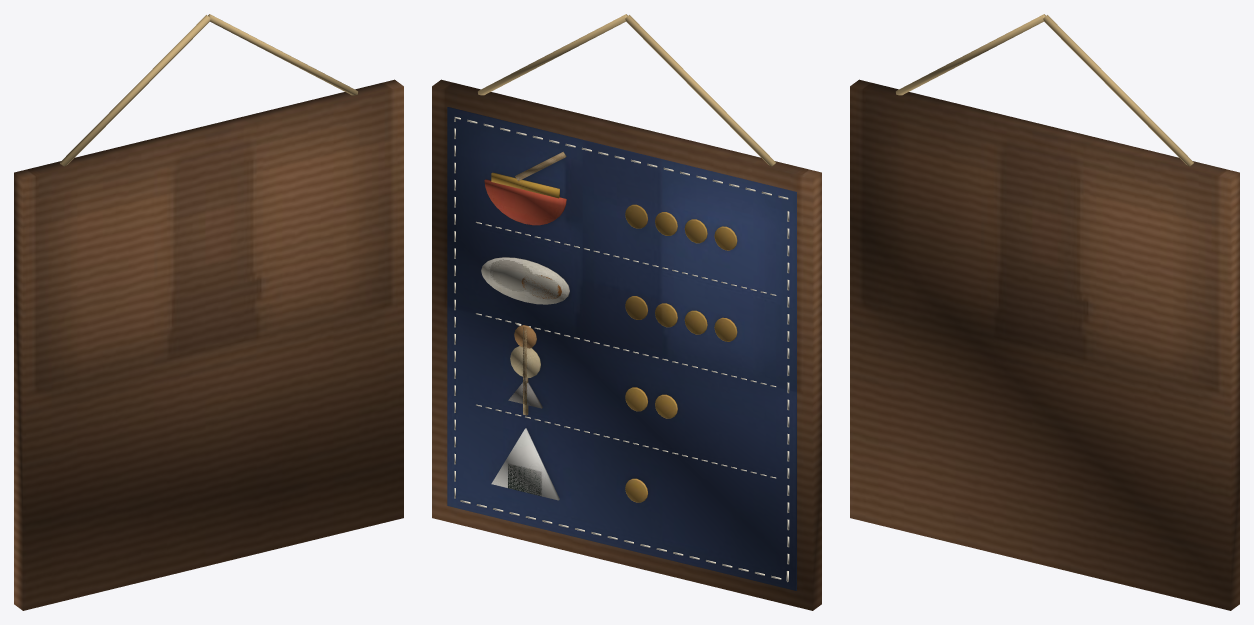
File: menu_food.glb
The picture shows the model from 3 angles, left to right: view 1: azimuth 30°, elevation 25°; view 2: azimuth 150°, elevation 25°; view 3: azimuth 330°, elevation 25°; orthographic projection.
Parts seen in each view (by area): view 1: menu_food_wood_dark, menu_food_hemp; view 2: menu_food_felt_indigo, menu_food_wood_dark, menu_food_felt_gold, menu_food_thread, menu_food_felt_ivory, menu_food_hemp, menu_food_felt_rice, menu_food_felt_red, menu_food_wood_light, menu_food_felt_daikon, menu_food_felt_yellow, menu_food_felt_nori; view 3: menu_food_wood_dark, menu_food_hemp.
Boxes of the visible parts, left/top/right/bottom form: menu_food_wood_dark: left=14, top=79, right=403, bottom=610; menu_food_hemp: left=60, top=14, right=357, bottom=166; menu_food_felt_indigo: left=447, top=107, right=796, bottom=590; menu_food_wood_dark: left=432, top=79, right=821, bottom=610; menu_food_felt_gold: left=625, top=204, right=737, bottom=502; menu_food_thread: left=454, top=117, right=789, bottom=581; menu_food_felt_ivory: left=481, top=257, right=569, bottom=304; menu_food_hemp: left=478, top=14, right=775, bottom=166; menu_food_felt_rice: left=489, top=267, right=559, bottom=500; menu_food_felt_red: left=484, top=179, right=566, bottom=225; menu_food_wood_light: left=515, top=151, right=566, bottom=415; menu_food_felt_daikon: left=510, top=346, right=540, bottom=377; menu_food_felt_yellow: left=491, top=172, right=559, bottom=198; menu_food_felt_nori: left=508, top=464, right=541, bottom=495; menu_food_wood_dark: left=850, top=79, right=1239, bottom=610; menu_food_hemp: left=896, top=14, right=1193, bottom=166.
Size of the model in its own units: 1.92 by 2.63 by 0.1.
15 materials, 13 textured.
